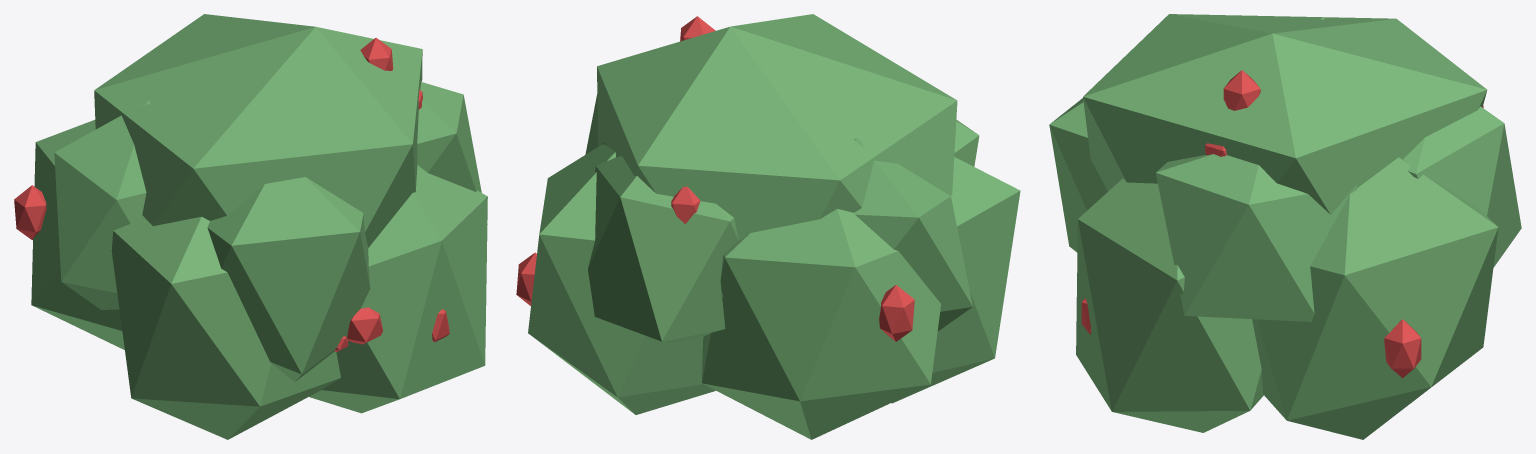
File: BerryBush.fbx
The picture shows the model from 3 angles, left to right: view 1: azimuth 30°, elevation 25°; view 2: azimuth 150°, elevation 25°; view 3: azimuth 270°, elevation 25°; orthographic projection. The views are drawn at different scales.
Parts seen in each view (by area): view 1: BerryBush_BerryBushLeafMat.001, BerryBush_BerryBushBerryMat.001; view 2: BerryBush_BerryBushLeafMat.001, BerryBush_BerryBushBerryMat.001; view 3: BerryBush_BerryBushLeafMat.001, BerryBush_BerryBushBerryMat.001.
Part boxes in pixels (box(x1,y1,x2,y2)): BerryBush_BerryBushLeafMat.001: box(31, 14, 487, 439); BerryBush_BerryBushBerryMat.001: box(14, 38, 449, 351); BerryBush_BerryBushLeafMat.001: box(528, 14, 1020, 439); BerryBush_BerryBushBerryMat.001: box(516, 16, 914, 341); BerryBush_BerryBushLeafMat.001: box(1049, 14, 1521, 439); BerryBush_BerryBushBerryMat.001: box(1081, 70, 1483, 378).
Size of the model in its own units: 333 by 301 by 328.
